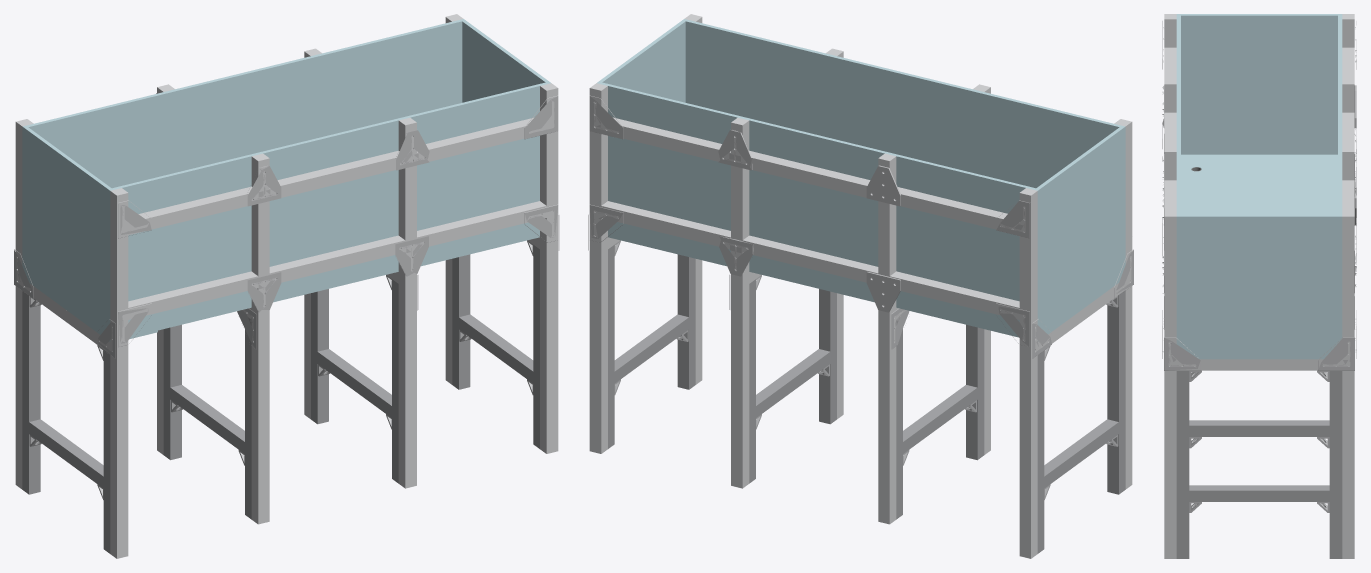
File: tow-tank.glb
The picture shows the model from 3 angles, left to right: view 1: azimuth 30°, elevation 25°; view 2: azimuth 150°, elevation 25°; view 3: azimuth 270°, elevation 25°; orthographic projection. The views are drawn at different scales.
Visible parts, largest first — view 1: Tank:1, StandCage:1, InnerStand:1, L brackets:1, T-Brackets:1, UnderBrackets:1; view 2: Tank:1, StandCage:1, InnerStand:1, L brackets:1, T-Brackets:1, UnderBrackets:1; view 3: Tank:1, StandCage:1, InnerStand:1, L brackets:1, T-Brackets:1, UnderBrackets:1.
Boxes of the visible parts, box(x1,y1,x2,y2) form: Tank:1: box(22, 19, 550, 341); StandCage:1: box(15, 14, 558, 558); InnerStand:1: box(22, 245, 539, 553); L brackets:1: box(14, 95, 559, 358); T-Brackets:1: box(156, 93, 429, 312); UnderBrackets:1: box(29, 240, 533, 499); Tank:1: box(597, 19, 1125, 341); StandCage:1: box(589, 14, 1132, 558); InnerStand:1: box(608, 245, 1125, 553); L brackets:1: box(588, 95, 1133, 358); T-Brackets:1: box(718, 130, 900, 312); UnderBrackets:1: box(614, 240, 1118, 499); Tank:1: box(1176, 14, 1342, 359); StandCage:1: box(1164, 14, 1354, 558); InnerStand:1: box(1176, 371, 1342, 558); L brackets:1: box(1162, 21, 1356, 370); T-Brackets:1: box(1162, 85, 1356, 293); UnderBrackets:1: box(1189, 370, 1329, 512).
Size of the model in its own units: 1.54 by 1.2 by 0.6175.
